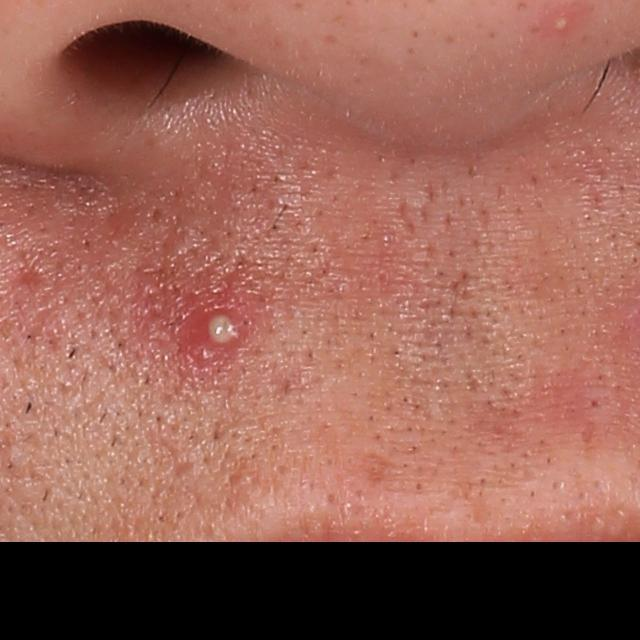atrophic_scar: (3, 250, 55, 294)
pustule: (551, 16, 571, 34)
